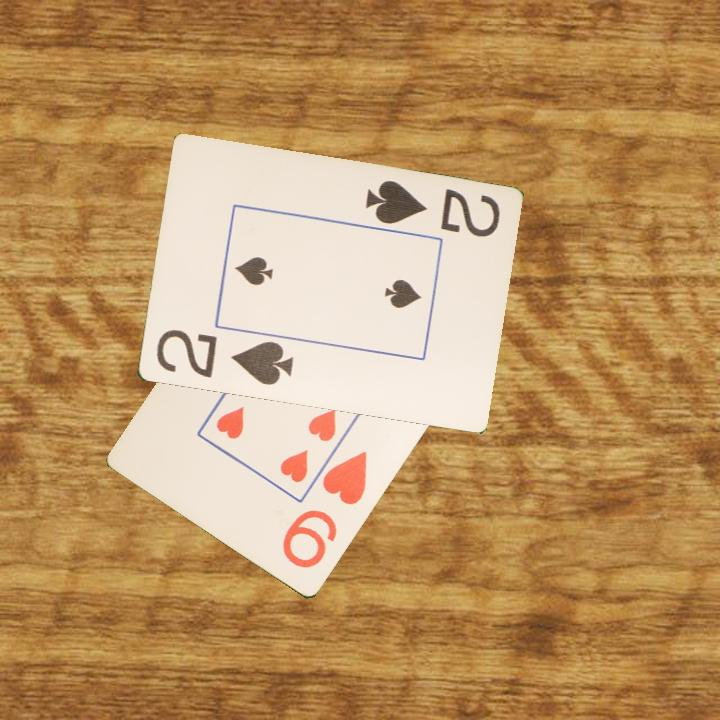2s: (361, 177, 503, 241), (152, 326, 296, 389)
9h: (278, 448, 371, 573)
